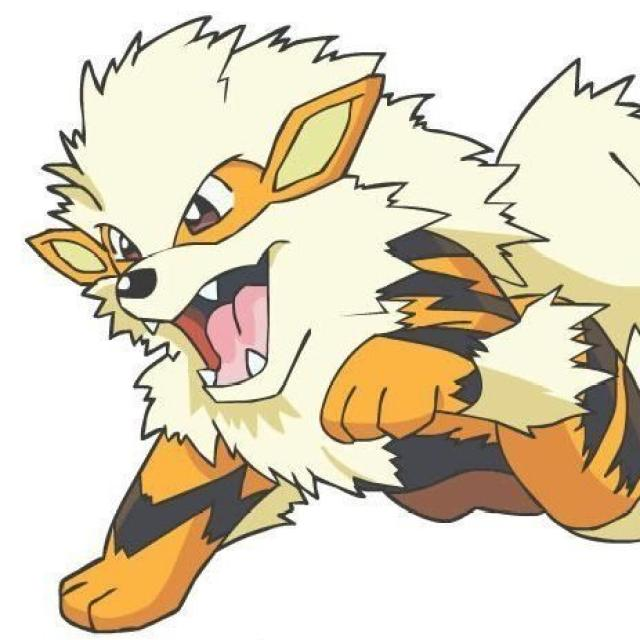Arcanine: (44, 48, 626, 529)
